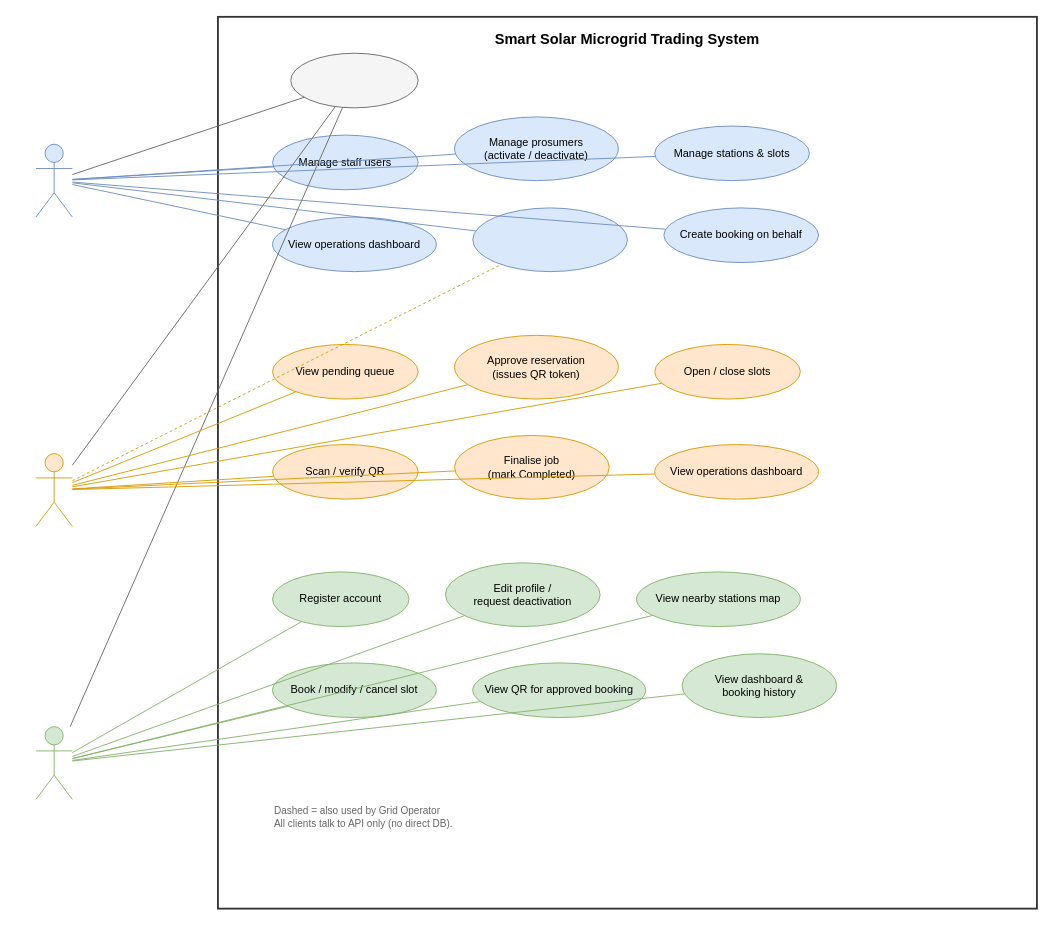
Image size: 1054x925. Some labels were removed from this diagram. Each missing label, with the centre of its shape:
"Backoffice" goes at point (53, 180).
"Grid Operator" goes at point (53, 489).
"Login" goes at point (354, 80).
"Monitor bookings (filter / history)" goes at point (549, 239).
"Prosumer" goes at point (53, 762).
